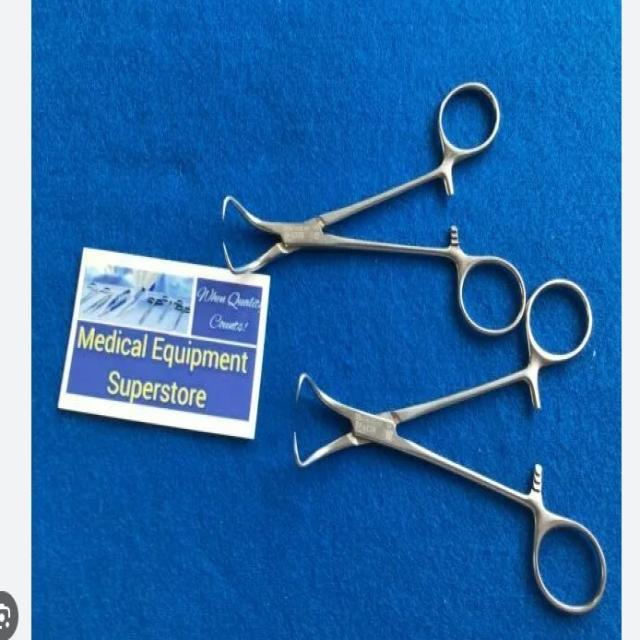Backhaus Towel Clamp: (287, 278, 617, 618), (218, 78, 523, 336)
